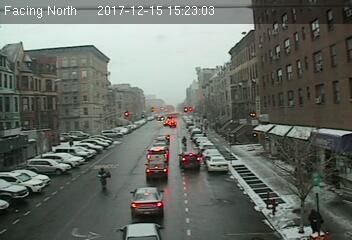bicycle: (96, 166, 112, 192)
car: (130, 186, 163, 217), (120, 221, 162, 240), (145, 158, 167, 179), (177, 152, 201, 170), (206, 156, 228, 173)
